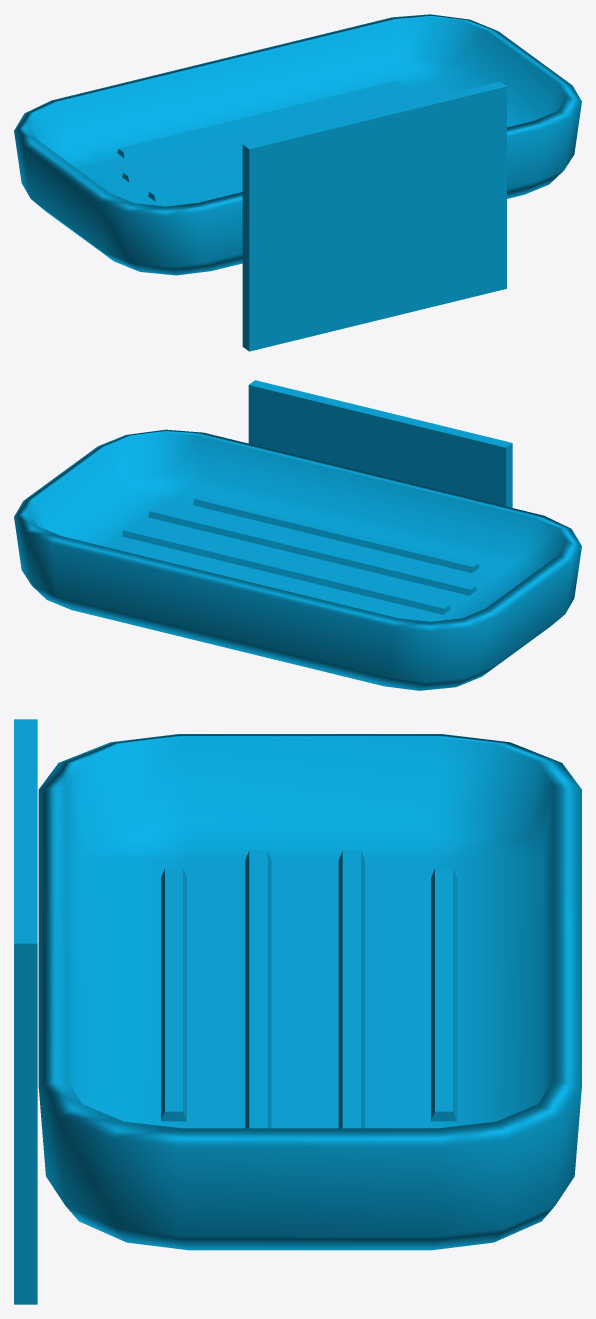
Rendered from Soap_Dish_02_Lod0.fbx.
3 renders of one model, top to bottom at view 1: azimuth 30°, elevation 25°; view 2: azimuth 150°, elevation 25°; view 3: azimuth 270°, elevation 25°, orthographic. The views are drawn at different scales.
Visible parts, largest first — view 1: Soap_Dish_02_Lod0; view 2: Soap_Dish_02_Lod0; view 3: Soap_Dish_02_Lod0.
Boxes of the visible parts, <box> form: Soap_Dish_02_Lod0: <box>14,14,581,351</box>; Soap_Dish_02_Lod0: <box>14,380,581,690</box>; Soap_Dish_02_Lod0: <box>14,719,581,1304</box>.
Size of the model in its own units: 21.63 by 8.81 by 12.56.
